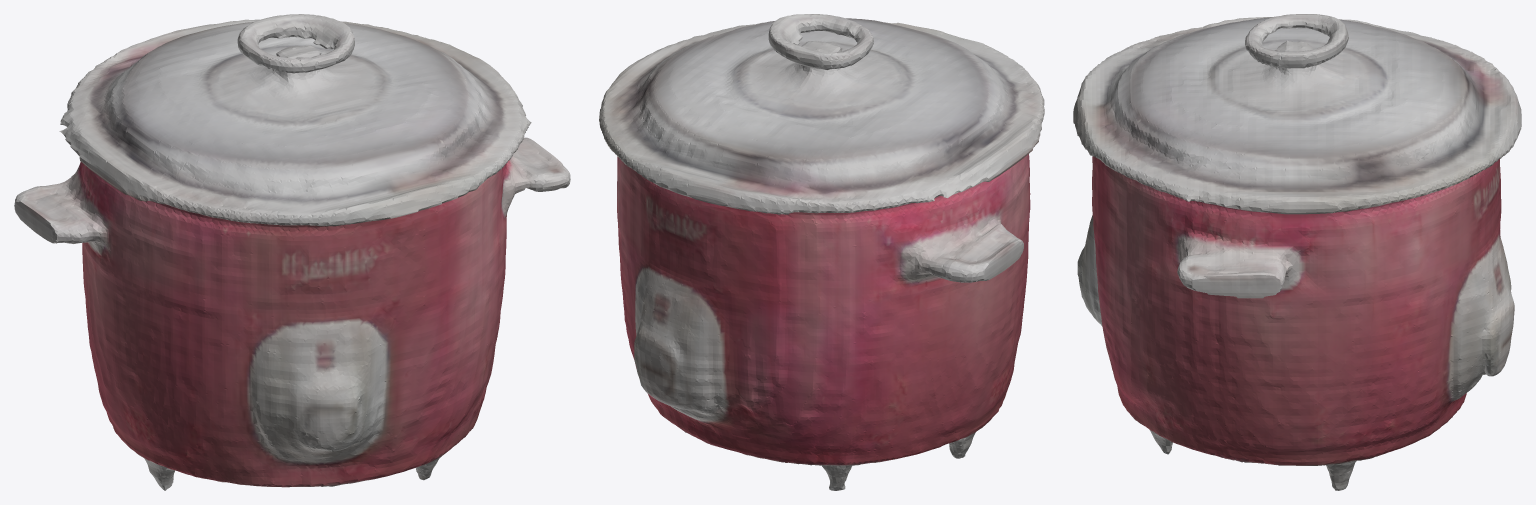
The model's file is cooker4.glb.
3 views of the same model, side by side, from view 1: azimuth 30°, elevation 25°; view 2: azimuth 150°, elevation 25°; view 3: azimuth 270°, elevation 25° (orthographic). The views are drawn at different scales.
Visible parts, largest first — view 1: world; view 2: world; view 3: world.
Part boxes in pixels (left/top/right/bottom): world: left=14, top=14, right=570, bottom=490; world: left=599, top=14, right=1044, bottom=490; world: left=1073, top=14, right=1521, bottom=490.
Bounding box in the file's own units: 1.98 × 1.78 × 1.79.
